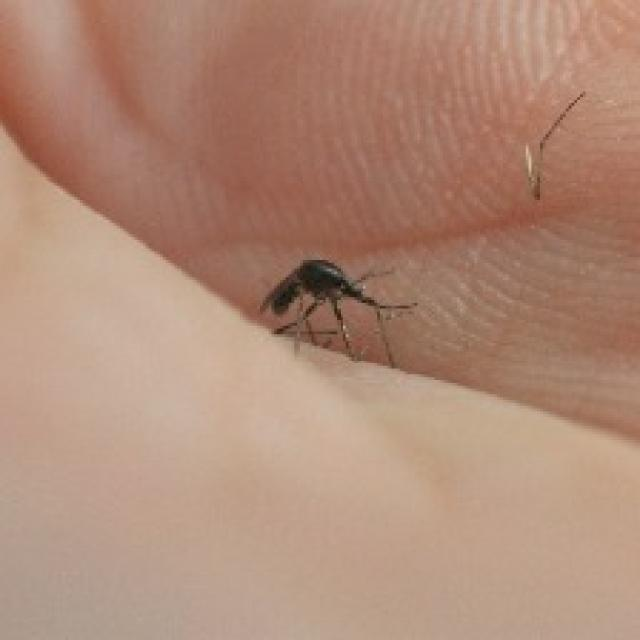aedes: (254, 254, 417, 369)
